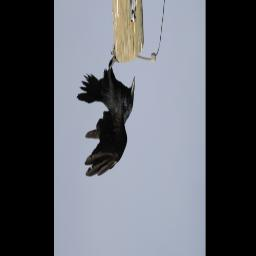Crow: (75, 47, 136, 179)
